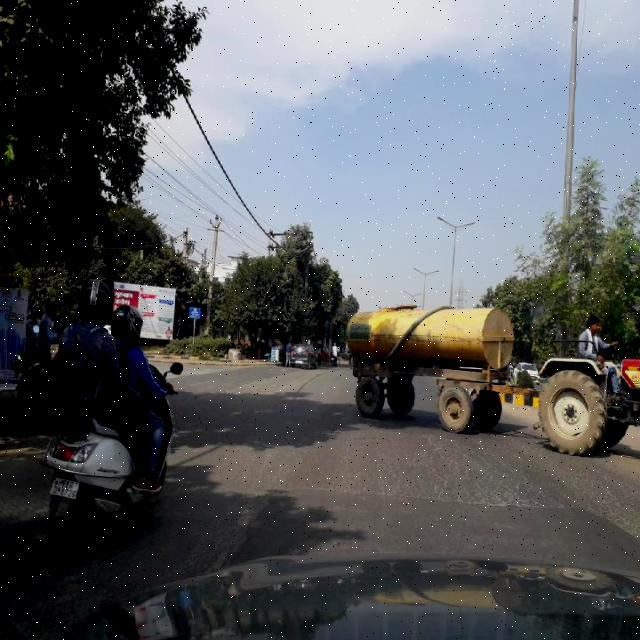D00: (199, 467, 276, 561)
D10: (262, 473, 590, 519)
D20: (276, 433, 556, 513)
